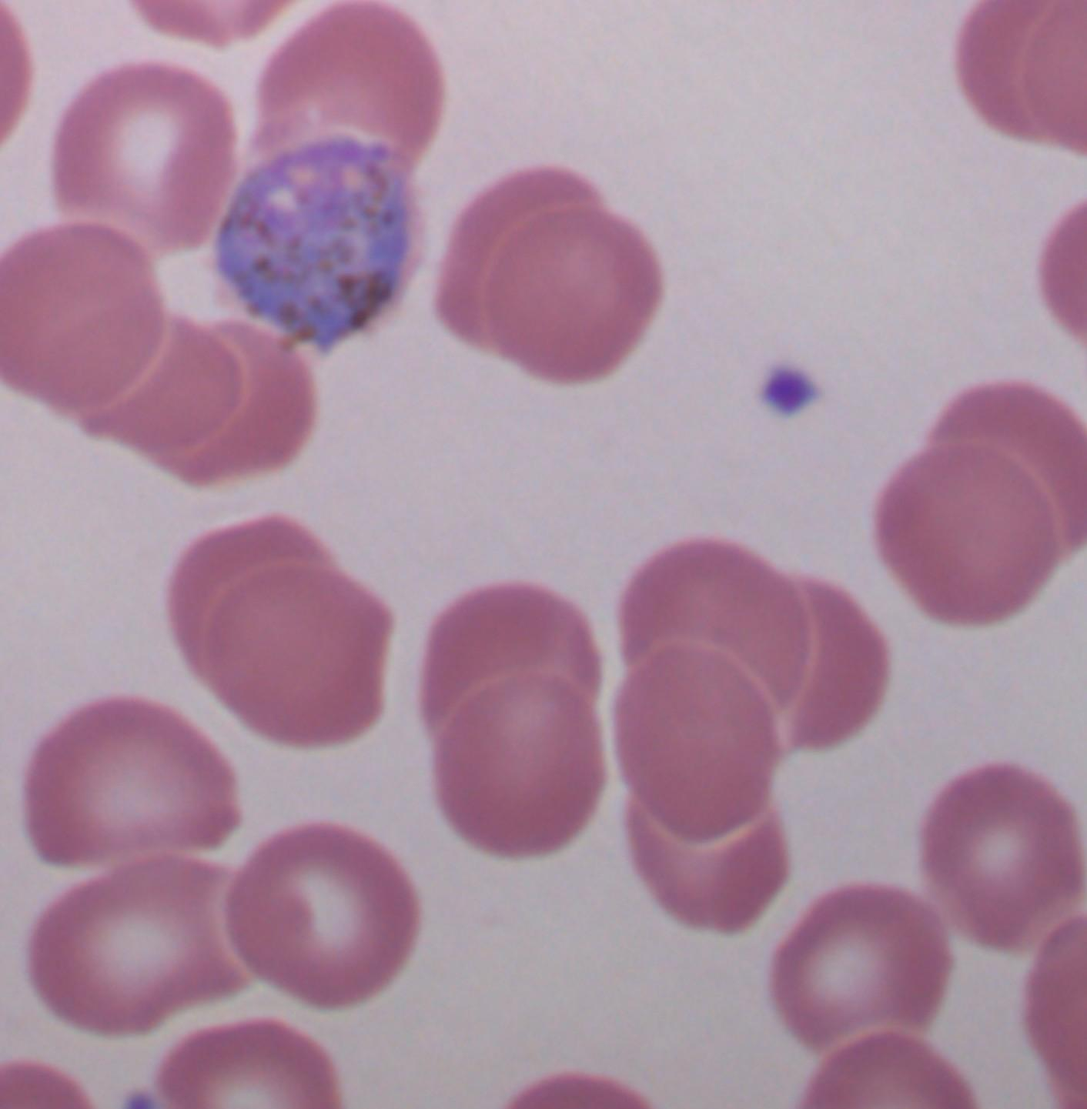Infected: (200, 129, 426, 358)
Uninfected: (27, 857, 259, 1036), (622, 533, 818, 730), (208, 558, 398, 752), (237, 820, 421, 1013), (29, 702, 249, 862), (48, 66, 239, 248), (878, 443, 1059, 633), (772, 880, 954, 1055), (491, 202, 663, 385), (435, 672, 606, 856), (622, 639, 775, 842), (260, 2, 444, 161), (0, 225, 159, 401), (937, 379, 1079, 572), (928, 764, 1071, 953), (429, 585, 595, 729), (79, 316, 244, 456), (635, 799, 791, 939)
